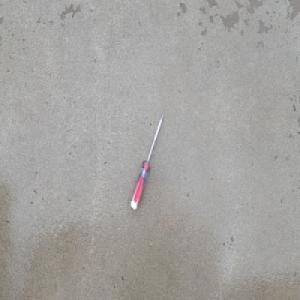Screwdriver: (129, 111, 165, 212)
